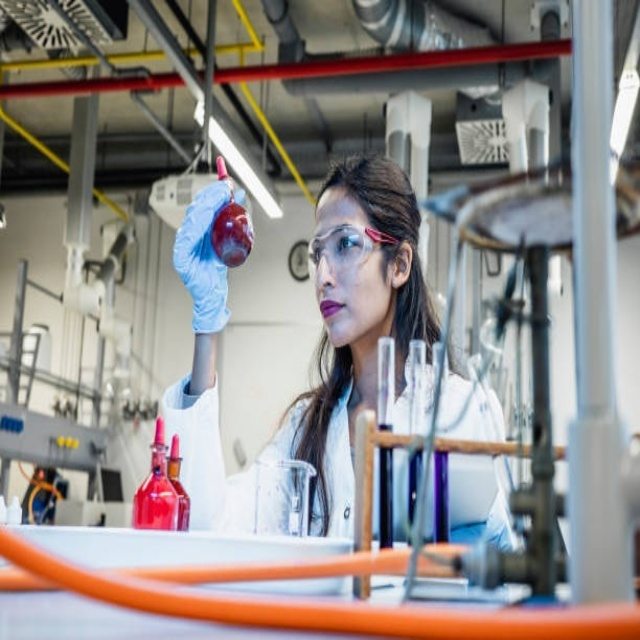Gafas: (308, 224, 401, 276)
Guantes: (171, 174, 246, 335)
Sin_mascara: (316, 291, 351, 346)
